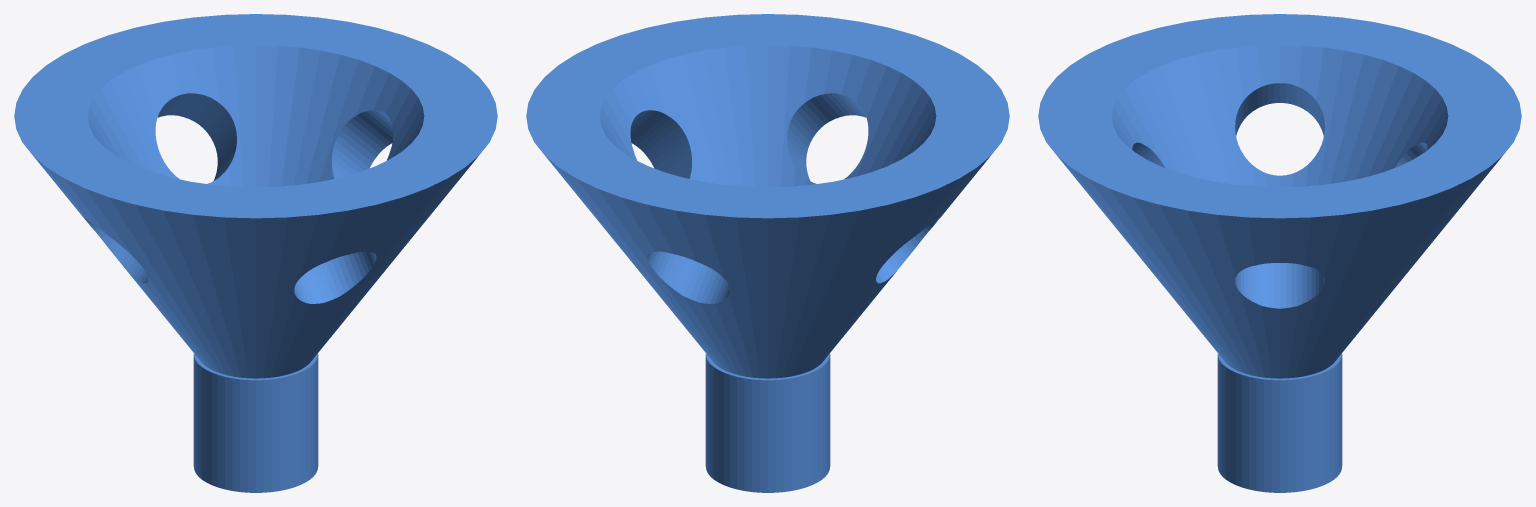
The model's file is 3DPX-022834.glb.
3 renders of one model, left to right at view 1: azimuth 30°, elevation 25°; view 2: azimuth 150°, elevation 25°; view 3: azimuth 270°, elevation 25°, orthographic.
Parts seen in each view (by area): view 1: rotor-own-repaired-nih3d; view 2: rotor-own-repaired-nih3d; view 3: rotor-own-repaired-nih3d.
Part boxes in pixels (bbox=[...]): rotor-own-repaired-nih3d: bbox=[14, 14, 497, 492]; rotor-own-repaired-nih3d: bbox=[526, 14, 1009, 492]; rotor-own-repaired-nih3d: bbox=[1038, 14, 1521, 492].
Bounding box in the file's own units: 35 × 28 × 35.
